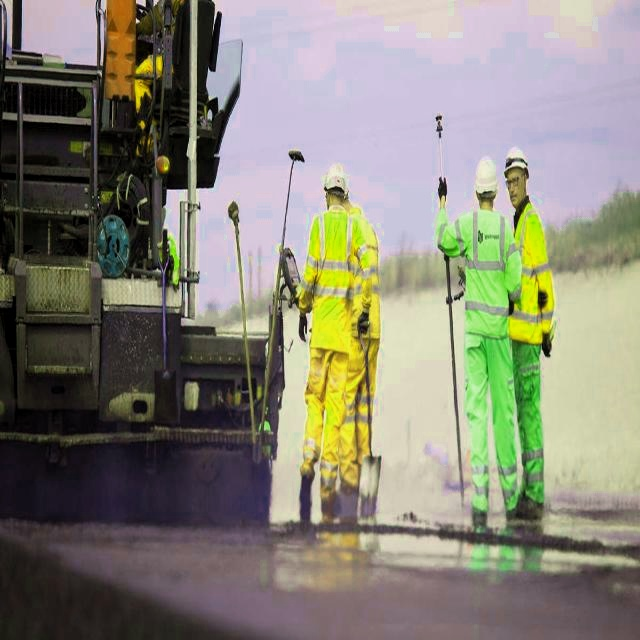Con_Casco: (504, 148, 529, 202), (476, 153, 500, 204), (324, 162, 348, 205)
Con_Chaleco: (310, 208, 357, 348), (507, 210, 549, 339), (464, 214, 509, 334)
